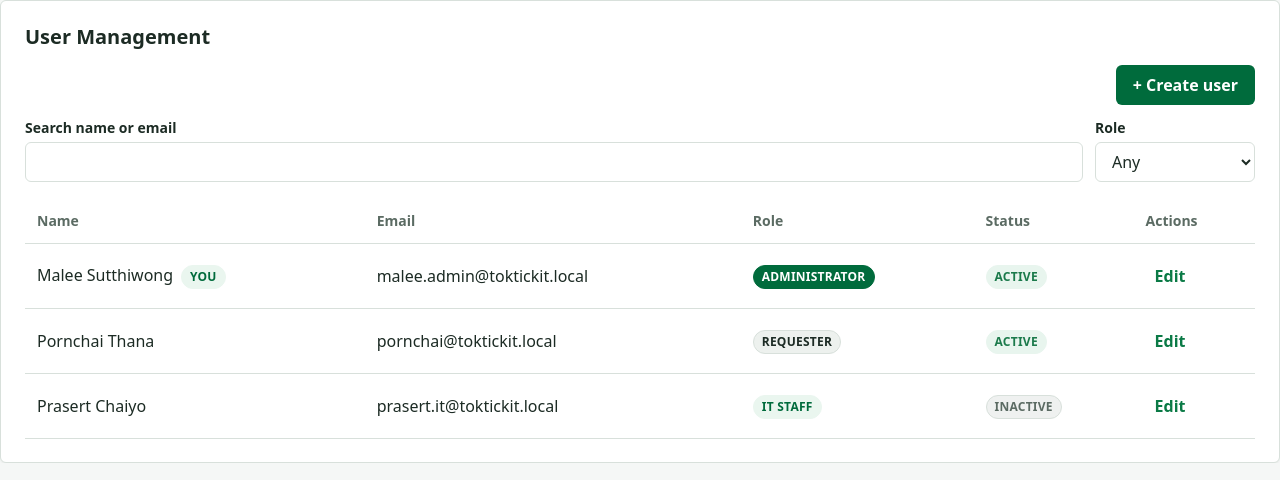
Test: UI-20 the list (AC-28, AC-29) › shows no-results with Clear search, which clears both the search and the role
Expected: the table is shown, [25,198,1255,438]
Select "Administrator" in the dropdown labelled "Role". click: (1175,162)
box: [1095,142,1255,182]
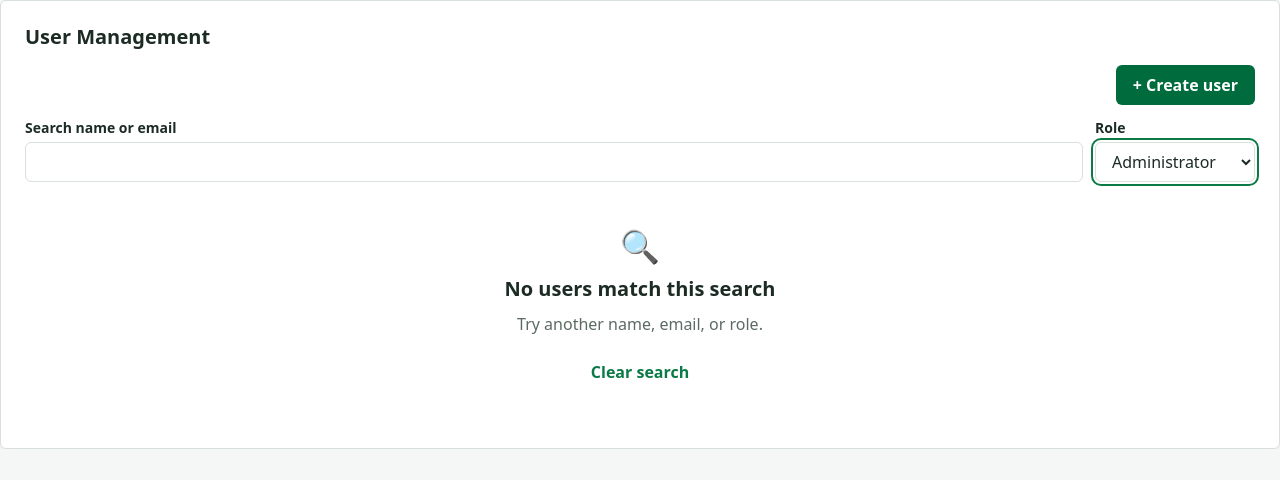
Expected: the text "No users match this search" is shown, [504,275,776,302]
Click the button "Clear search". click: (640,372)
box: [582,352,698,392]
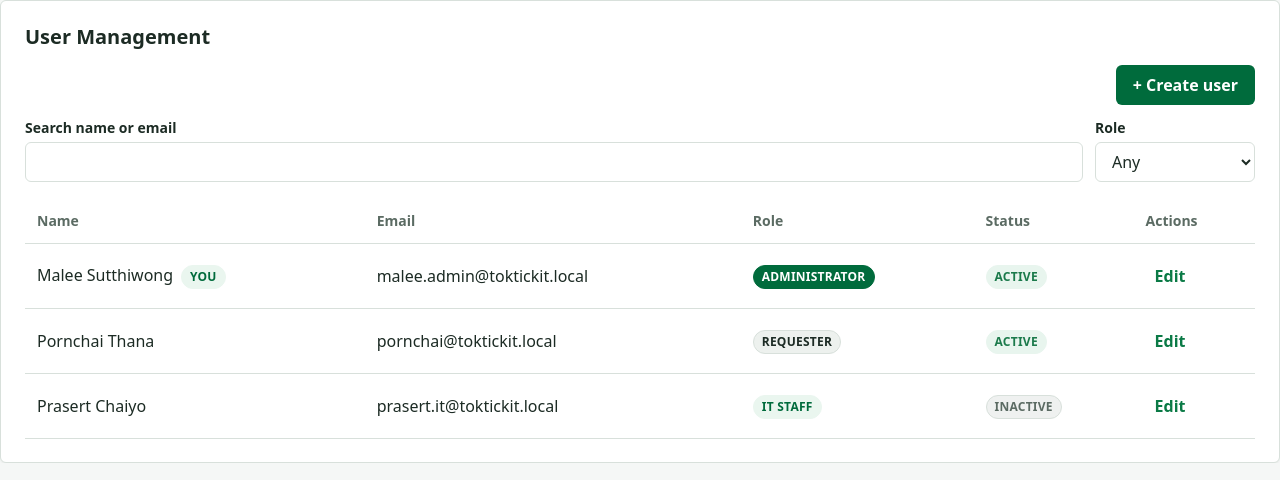
Expected: the table is shown, [25,198,1255,438]
